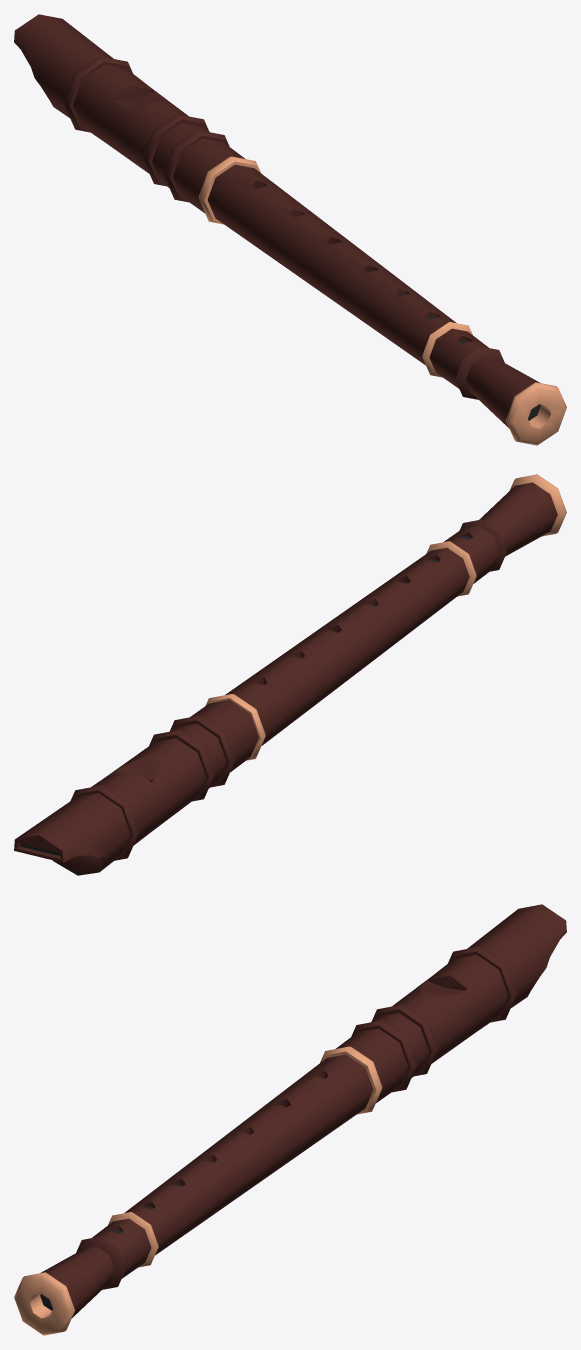
The model's file is Recorder_01.fbx.
The picture shows the model from 3 angles, top to bottom: view 1: azimuth 30°, elevation 25°; view 2: azimuth 150°, elevation 25°; view 3: azimuth 330°, elevation 25°; orthographic projection.
Visible parts, largest first — view 1: Recorder_01; view 2: Recorder_01; view 3: Recorder_01.
Part boxes in pixels (<box>): Recorder_01: <box>14,14,566,445</box>; Recorder_01: <box>14,474,566,875</box>; Recorder_01: <box>14,904,566,1335</box>.
Size of the model in its own units: 0.0429 by 0.0429 by 0.4987.
